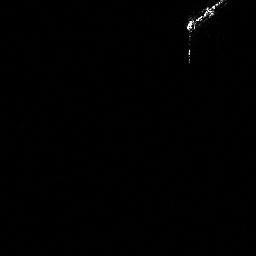ship: (182, 1, 228, 39)
